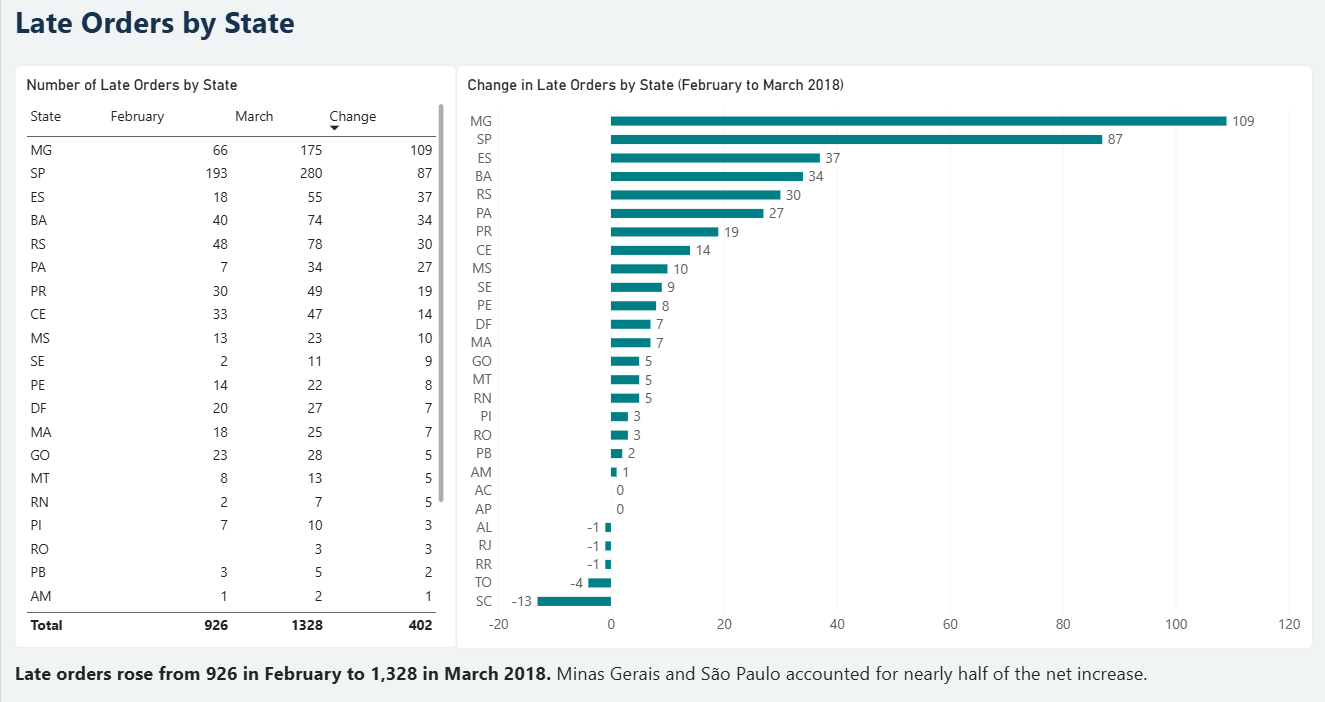

The dashboard page shown, as its layout file describes it:
{"tool":"powerbi","page":{"name":"Delivery Exploration","canvas":[1920,1080],"ordinal":1},"visuals":[{"type":"tableEx","title":"Number of Late Orders by State","fields":{"Values":["Customers.customer_state","Orders.February Late Orders","Orders.March Late Orders","Orders.Change in Late Orders"]},"box":[19.9,119.4,638.8,843.3],"z":0},{"type":"barChart","title":"Change in Late Orders by State (February to March 2018)","fields":{"Category":["Customers.customer_state"],"Y":["Orders.Change in Late Orders"]},"box":[658.7,119.4,1239.6,845.1],"z":1000},{"type":"textbox","box":[19.9,25.3,454.2,94.1],"z":2000},{"type":"textbox","box":[19.9,980.8,1782.5,99.5],"z":3000}]}

Visuals, with their boxes on the page's 1920x1080 design canvas (x1, y1, x2, y2). These are canvas units, not pixel positions in the 1325x702 screenshot, which may show the page scaled, cropped or inside an application window:
"Number of Late Orders by State" tableEx: 20 119 659 963
"Change in Late Orders by State (February to March 2018)" barChart: 659 119 1898 964
textbox: 20 25 474 119
textbox: 20 981 1802 1080
